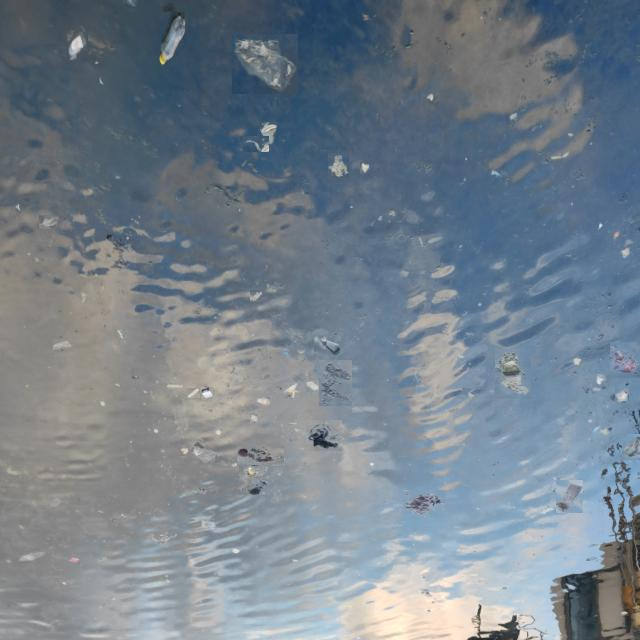Bottle cap: (370, 460, 374, 468), (154, 428, 158, 435), (284, 350, 288, 356)
Plastic: (328, 153, 349, 178), (243, 136, 269, 152), (306, 380, 319, 392), (250, 290, 262, 302), (360, 162, 370, 174), (97, 554, 109, 564), (231, 546, 241, 556), (573, 356, 581, 368), (181, 445, 189, 456), (250, 414, 258, 423), (619, 609, 629, 616)
Plastic bag: (232, 34, 298, 94), (496, 349, 532, 399), (319, 360, 352, 406), (105, 230, 136, 272), (403, 490, 445, 517), (306, 420, 342, 451), (610, 342, 640, 378), (237, 446, 284, 466), (190, 439, 222, 463), (67, 32, 88, 62), (619, 434, 640, 460), (238, 478, 268, 495), (18, 548, 48, 564), (239, 465, 270, 479), (418, 586, 438, 607), (39, 215, 59, 229), (53, 339, 73, 352)
Plastic bottle: (159, 12, 188, 67), (314, 335, 341, 355)
Plastic cup: (260, 122, 278, 146), (615, 388, 629, 403), (596, 372, 606, 386)
Plastic packaging: (284, 382, 300, 399), (201, 386, 213, 398), (256, 397, 270, 406), (68, 557, 80, 565), (117, 328, 124, 340), (215, 429, 222, 436)
Wood: (556, 480, 583, 513), (187, 388, 200, 398), (166, 383, 183, 389)
